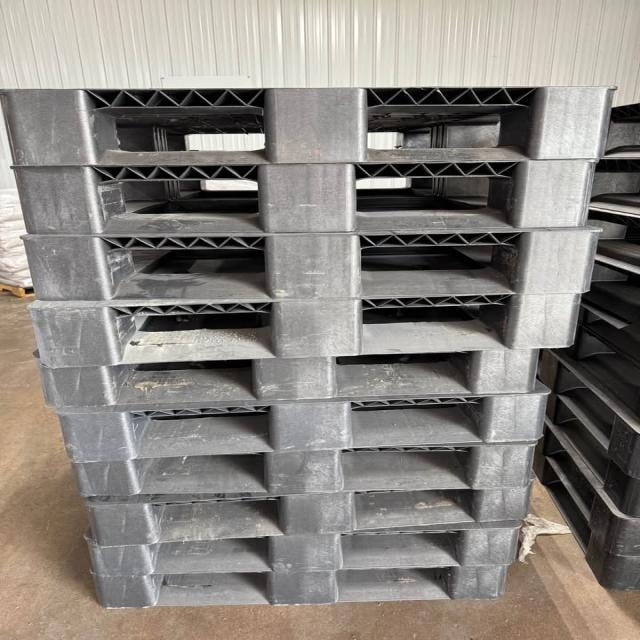non-igps: (0, 77, 622, 184), (11, 215, 612, 316), (0, 150, 604, 250), (23, 281, 592, 380), (46, 370, 569, 473), (27, 338, 546, 419), (80, 469, 555, 554), (55, 427, 548, 507), (76, 505, 530, 583), (81, 551, 513, 615), (528, 409, 640, 562), (524, 342, 640, 483), (534, 452, 640, 596), (565, 300, 640, 431), (564, 242, 640, 344), (578, 196, 640, 277), (578, 150, 640, 223), (582, 97, 640, 162)
